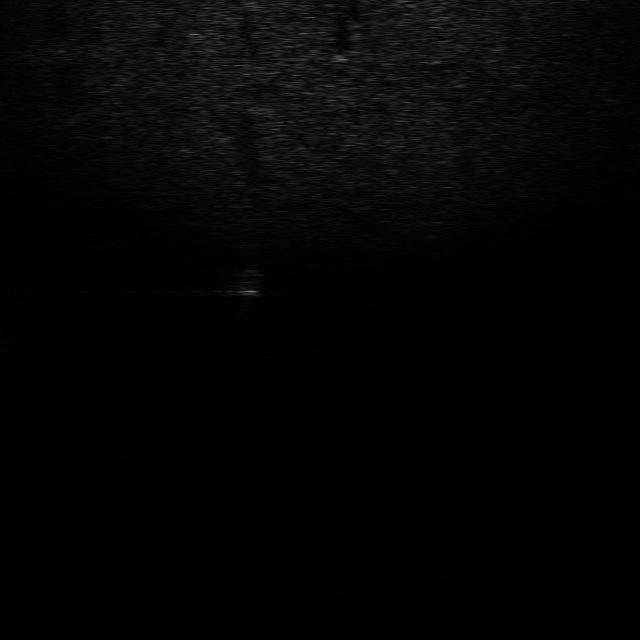human body: (228, 264, 266, 318)
